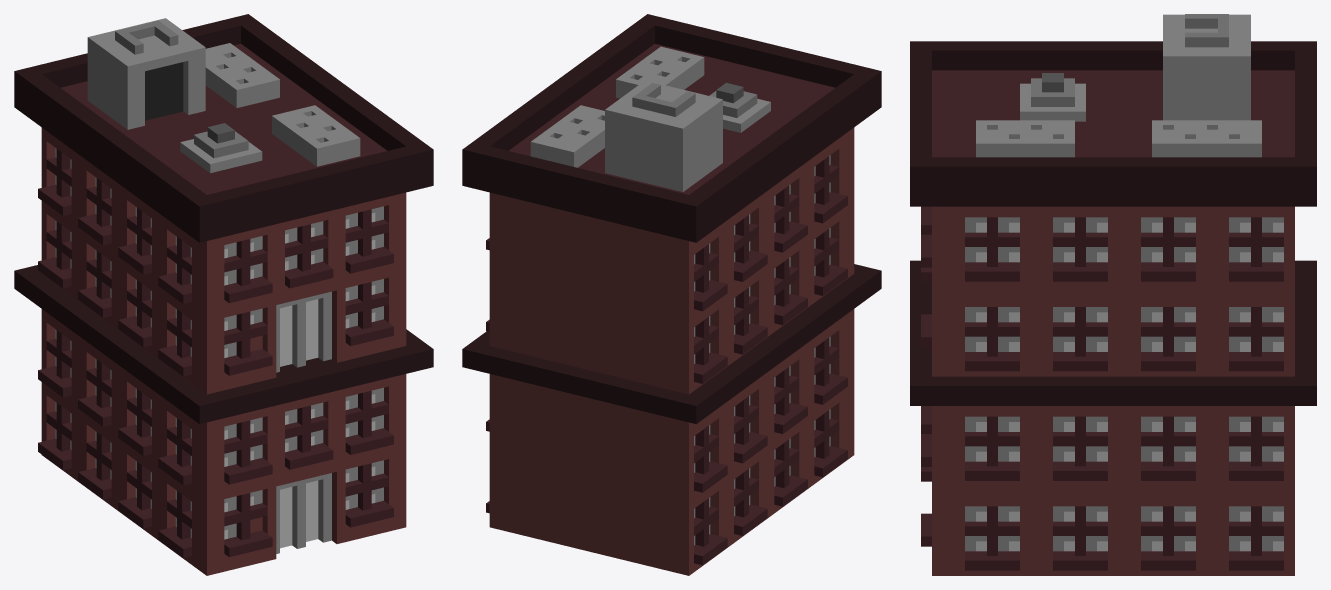
The model's file is building2.obj.
The picture shows the model from 3 angles, left to right: view 1: azimuth 30°, elevation 25°; view 2: azimuth 150°, elevation 25°; view 3: azimuth 270°, elevation 25°; orthographic projection. The views are drawn at different scales.
Size of the model in its own units: 2.7 by 4.8 by 3.7.
Materials: 1 (1 with a texture image).
